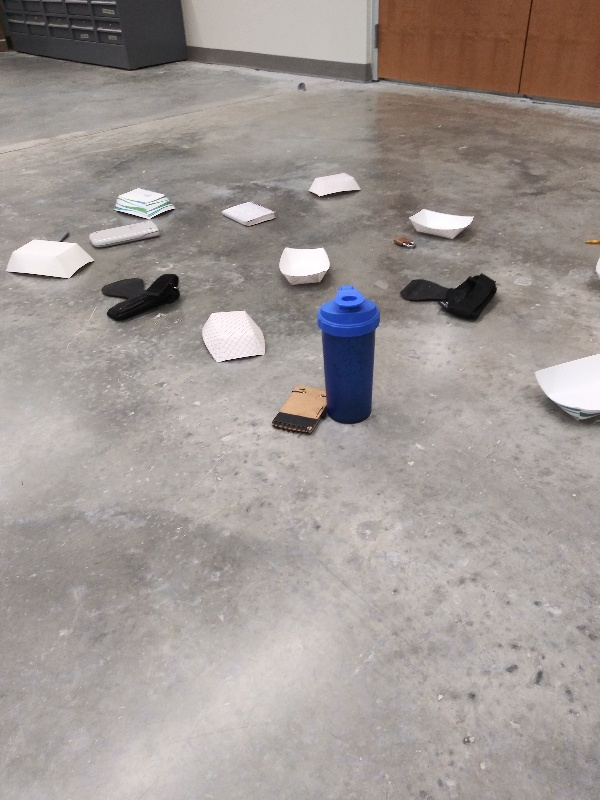plate: (528, 347, 600, 433), (194, 306, 270, 368), (1, 235, 97, 284), (406, 205, 479, 244), (109, 184, 181, 221), (276, 244, 332, 291), (304, 170, 363, 197)
